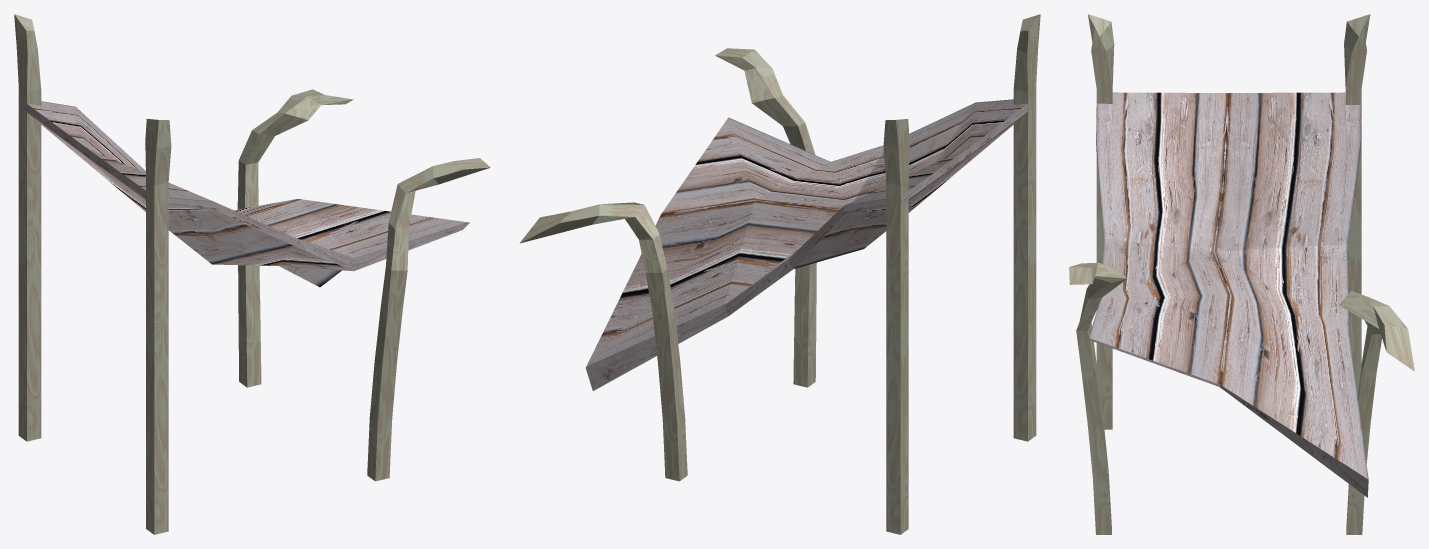
3 views of the same model, side by side, from view 1: azimuth 30°, elevation 25°; view 2: azimuth 150°, elevation 25°; view 3: azimuth 270°, elevation 25° (orthographic). The views are drawn at different scales.
Parts seen in each view (by area): view 1: brid032_woodsemwhite_0, brid032_woodboard_0; view 2: brid032_woodboard_0, brid032_woodsemwhite_0; view 3: brid032_woodboard_0, brid032_woodsemwhite_0.
Part boxes in pixels (x1,y1,x2,y2): brid032_woodsemwhite_0: (14, 14, 490, 534); brid032_woodboard_0: (18, 98, 469, 287); brid032_woodboard_0: (585, 99, 1027, 390); brid032_woodsemwhite_0: (519, 14, 1040, 534); brid032_woodboard_0: (1088, 92, 1368, 497); brid032_woodsemwhite_0: (1069, 14, 1414, 534).
Bounding box in the file's own units: 4.53 × 5.11 × 3.92.
Materials: 2 (2 with a texture image).
